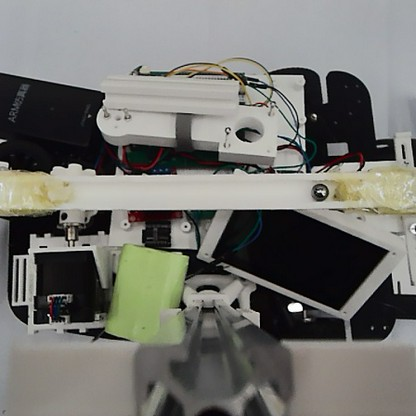ironball: (307, 180, 329, 203)
